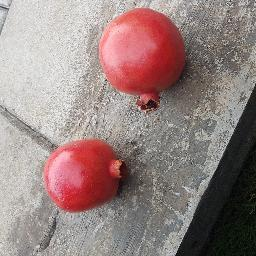Good_pomegranate: (95, 8, 196, 116), (43, 141, 133, 211)
